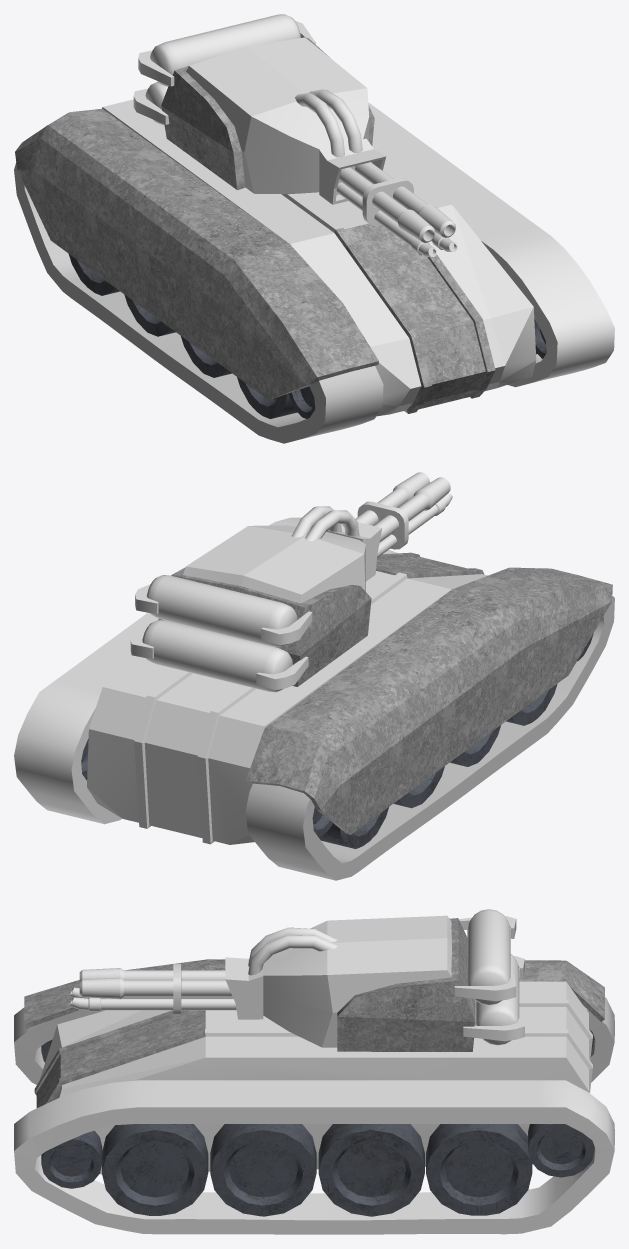
The model's file is Tank_2.blend1.fbx.
The picture shows the model from 3 angles, top to bottom: view 1: azimuth 30°, elevation 25°; view 2: azimuth 150°, elevation 25°; view 3: azimuth 270°, elevation 25°; orthographic projection. The views are drawn at different scales.
Parts seen in each view (by area): view 1: Lid_low, Tank_caterpillar_low, Tank_hull_low, Tank_turret_low, Tank_hull_1_low, Armor_low, Gas_cylinders_low, Tubes_low, Fiery_barrel_1_low, Pipe_base_low, Fiery_barrel_2_low, Gas_tube_1_low (+8 smaller); view 2: Lid_low, Tank_hull_low, Tank_caterpillar_low, Gas_cylinders_low, Tank_turret_low, Armor_low, Tank_hull_1_low, Tubes_low, Fiery_barrel_1_low, Holders_2_low, Holders_1_low, Wheel_2_low (+8 smaller); view 3: Tank_caterpillar_low, Tank_hull_low, Tank_turret_low, Armor_low, Wheel_3_low, Wheel_4_low, Wheel_5_low, Wheel_2_low, Tank_hull_1_low, Gas_cylinders_low, Lid_low, Wheel_1_low (+9 smaller).
Boxes of the visible parts, <box> form: Lid_low: <box>15,108,378,399</box>; Tank_caterpillar_low: <box>14,102,614,443</box>; Tank_hull_low: <box>102,99,536,416</box>; Tank_turret_low: <box>186,37,369,194</box>; Tank_hull_1_low: <box>334,223,495,413</box>; Armor_low: <box>161,38,374,189</box>; Gas_cylinders_low: <box>146,14,300,124</box>; Tubes_low: <box>295,89,362,157</box>; Fiery_barrel_1_low: <box>339,167,435,242</box>; Pipe_base_low: <box>319,138,386,204</box>; Fiery_barrel_2_low: <box>355,162,455,237</box>; Gas_tube_1_low: <box>336,182,436,257</box>; Lid_low: <box>245,567,612,834</box>; Tank_hull_low: <box>87,549,487,844</box>; Tank_caterpillar_low: <box>14,517,614,880</box>; Gas_cylinders_low: <box>142,575,297,692</box>; Tank_turret_low: <box>183,525,365,603</box>; Armor_low: <box>158,567,371,686</box>; Tank_hull_1_low: <box>376,552,484,578</box>; Tubes_low: <box>291,506,359,541</box>; Fiery_barrel_1_low: <box>373,477,450,542</box>; Holders_2_low: <box>130,629,308,690</box>; Holders_1_low: <box>135,584,312,645</box>; Wheel_2_low: <box>85,777,388,848</box>; Tank_caterpillar_low: <box>14,997,614,1234</box>; Tank_hull_low: <box>39,981,592,1174</box>; Tank_turret_low: <box>263,915,451,1047</box>; Armor_low: <box>337,918,475,1051</box>; Wheel_3_low: <box>318,1124,424,1216</box>; Wheel_4_low: <box>210,1124,316,1216</box>; Wheel_5_low: <box>102,1124,208,1215</box>; Wheel_2_low: <box>426,1124,532,1215</box>; Tank_hull_1_low: <box>34,1010,205,1107</box>; Gas_cylinders_low: <box>467,909,519,1045</box>; Lid_low: <box>24,959,604,1028</box>; Wheel_1_low: <box>528,1030,594,1177</box>.
Bounding box in the file's own units: 448 × 352 × 813.
